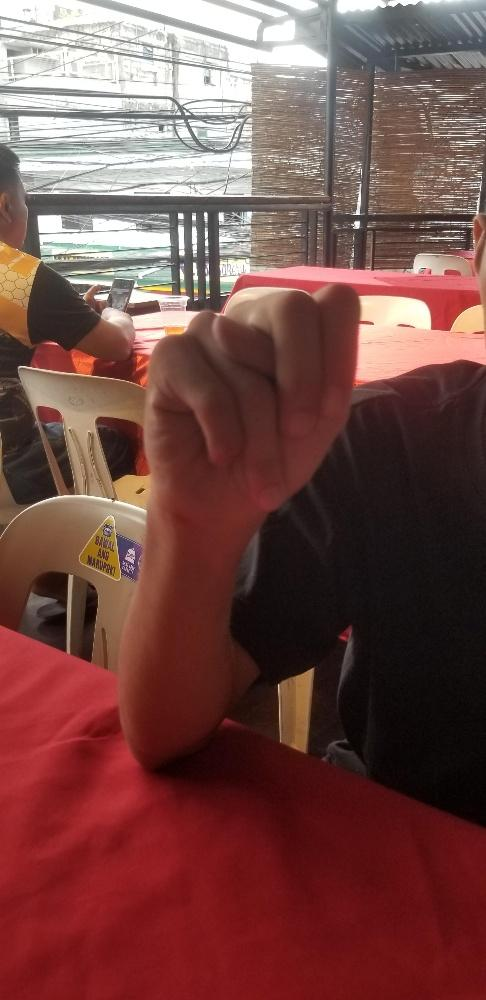n: (138, 274, 361, 522)
